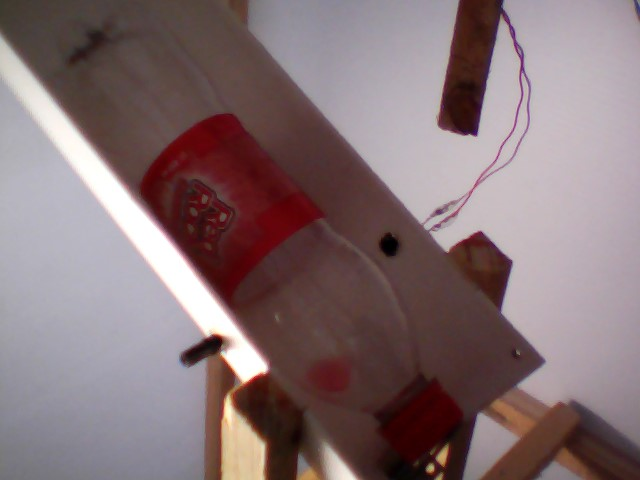plastico: (25, 1, 472, 471)
